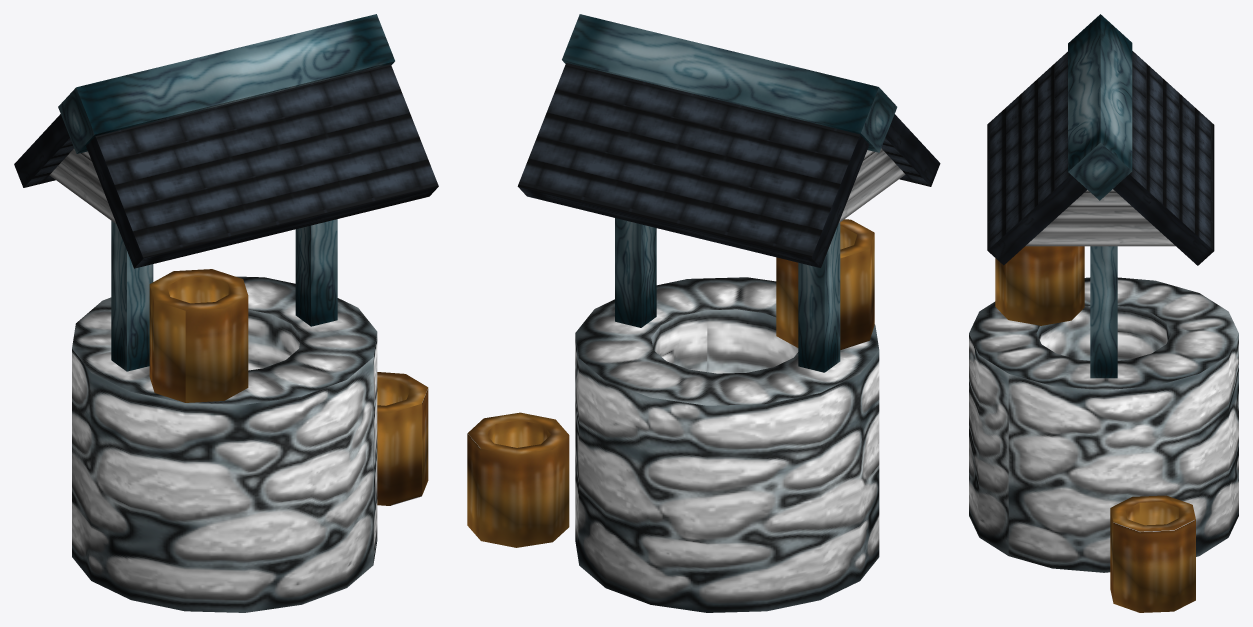
Rendered from Well.fbx.
3 views of the same model, side by side, from view 1: azimuth 30°, elevation 25°; view 2: azimuth 150°, elevation 25°; view 3: azimuth 270°, elevation 25° (orthographic). The views are drawn at different scales.
Parts seen in each view (by area): view 1: polySurface12; view 2: polySurface12; view 3: polySurface12.
Boxes of the visible parts, x1,y1,x2,y2 form: polySurface12: (14, 14, 438, 612); polySurface12: (467, 14, 940, 612); polySurface12: (969, 14, 1238, 612).
Bounding box in the file's own units: 2.81 × 3.59 × 2.
